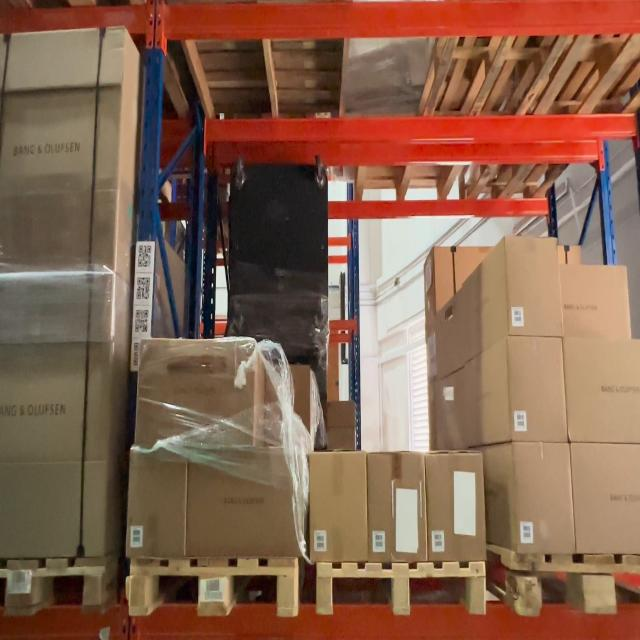box: (136, 340, 253, 448), (186, 451, 301, 553), (515, 444, 575, 550), (126, 454, 185, 560), (311, 449, 368, 558), (369, 452, 427, 559), (510, 336, 569, 441), (428, 454, 486, 560), (505, 234, 564, 338)
